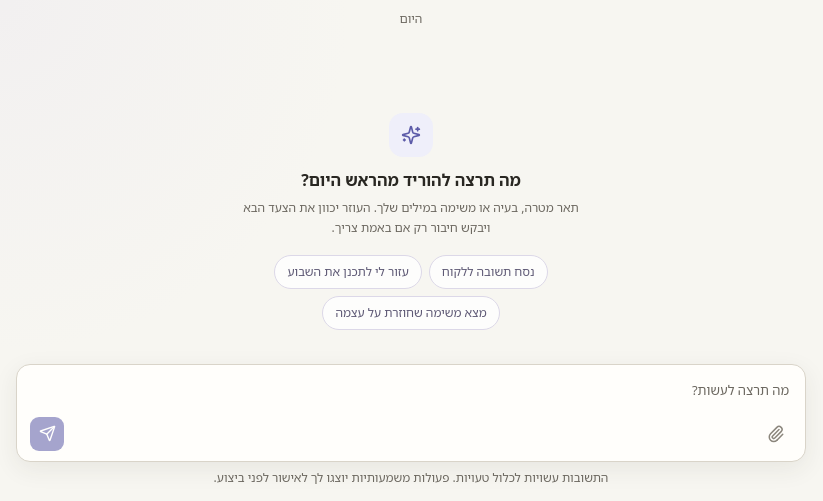
Test: ChatScreen — suggestion chips › the populated suggestion can still be edited before sending
Click the button "מצא משימה שחוזרת על עצמה".
click(411, 313)  # box [322, 296, 500, 330]
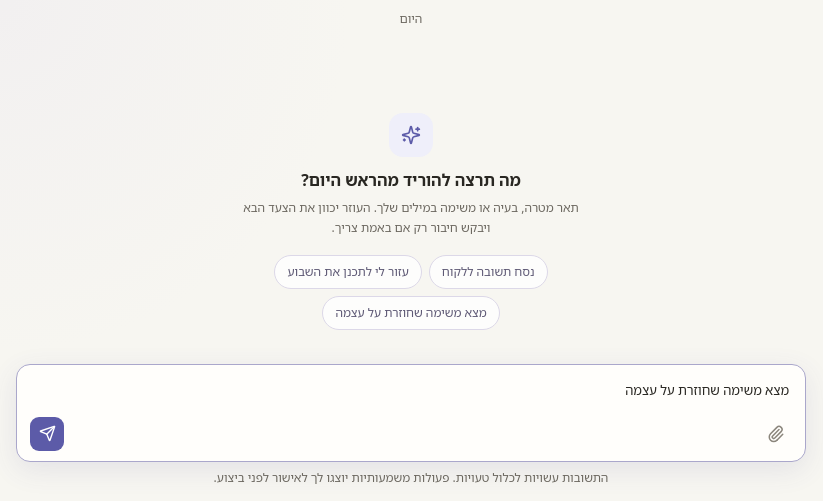
Type " דחוף" into the text box named "הודעה לעוזר".
click(411, 394); type(" דחוף")  # box [30, 377, 792, 412]
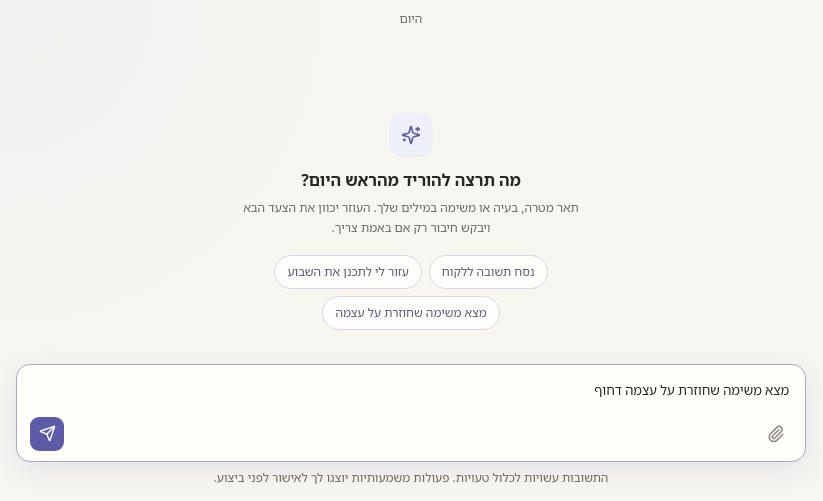
Expected: the text box named "הודעה לעוזר" holds "מצא משימה שחוזרת על עצמה דחוף", [30, 377, 792, 412]
